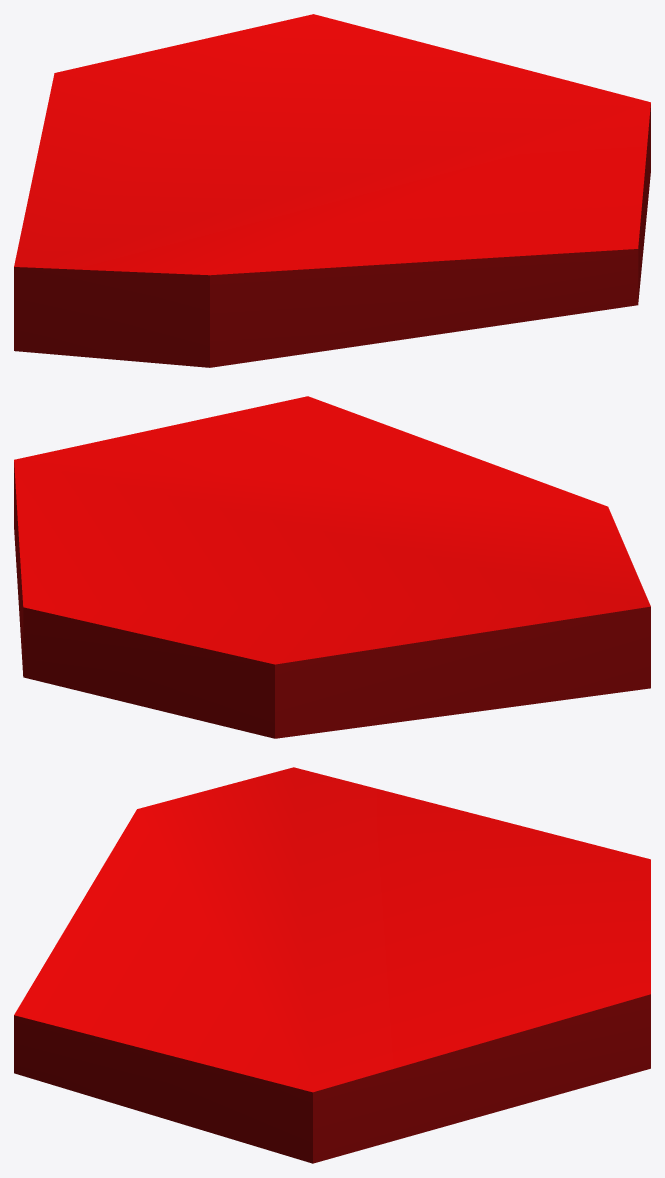
The model's file is geology-landforms-icedrift_v1.fbx.
3 renders of one model, top to bottom at view 1: azimuth 30°, elevation 25°; view 2: azimuth 150°, elevation 25°; view 3: azimuth 270°, elevation 25°, orthographic. The views are drawn at different scales.
Visible parts, largest first — view 1: IceDrift_v1; view 2: IceDrift_v1; view 3: IceDrift_v1.
Part boxes in pixels (x1,y1,x2,y2): IceDrift_v1: (14, 14, 650, 367); IceDrift_v1: (14, 396, 650, 738); IceDrift_v1: (14, 767, 650, 1163).
Bounding box in the file's own units: 3.06 × 0.4626 × 2.54.
